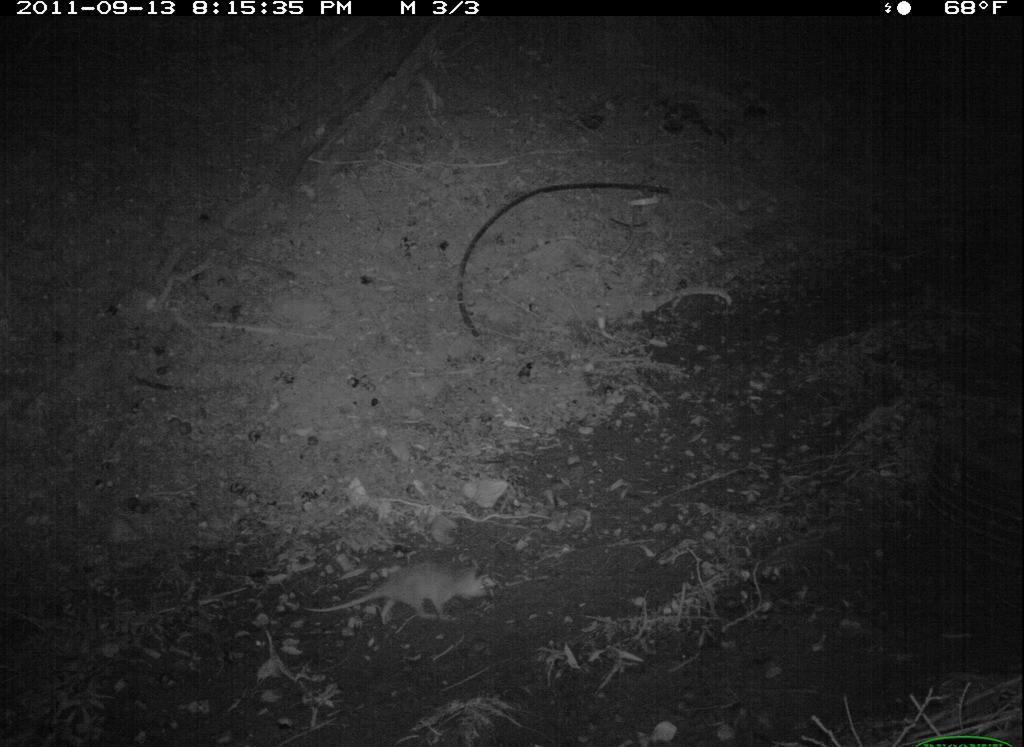opossum: (294, 553, 504, 638)
